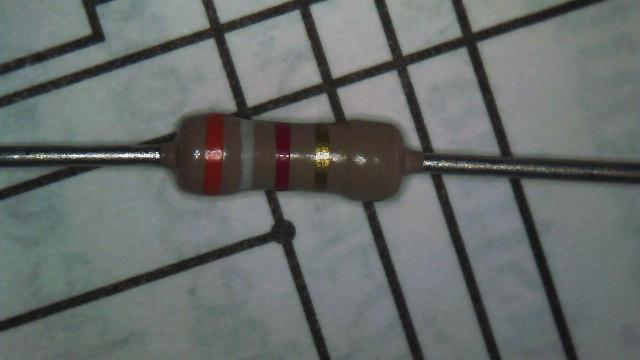gold: (314, 127, 331, 190)
orange: (202, 114, 223, 194)
red: (274, 122, 291, 190)
resistor: (156, 83, 419, 221)
white: (236, 118, 254, 190)
